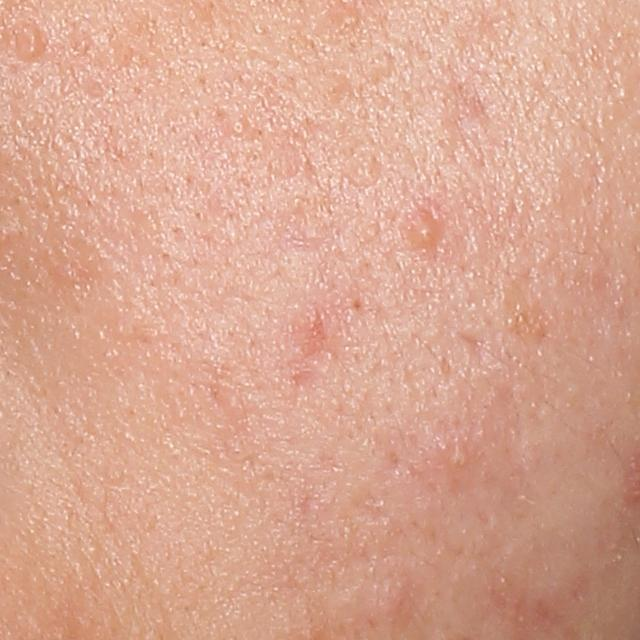atrophic_scar: (450, 321, 508, 368)
comedo: (229, 117, 251, 141)
papule: (409, 207, 441, 249)
